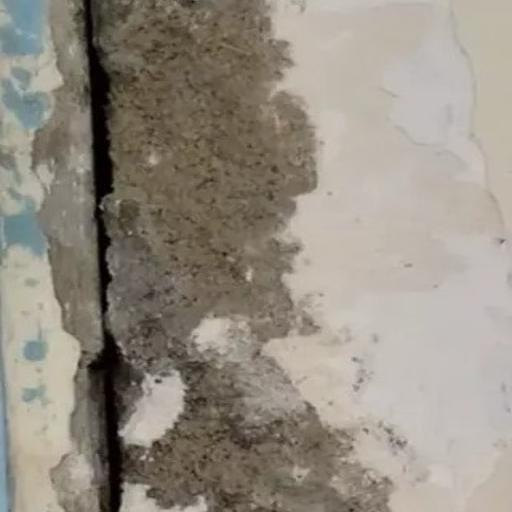spalling: (25, 0, 398, 512)
